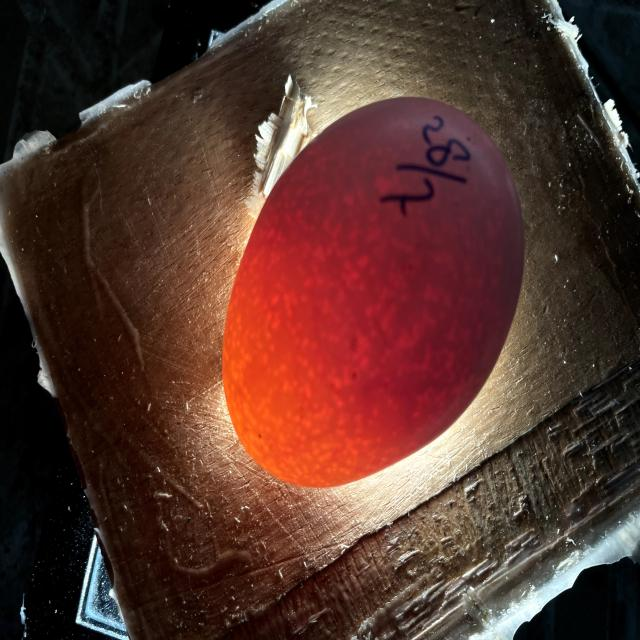fertile: (223, 97, 524, 487)
